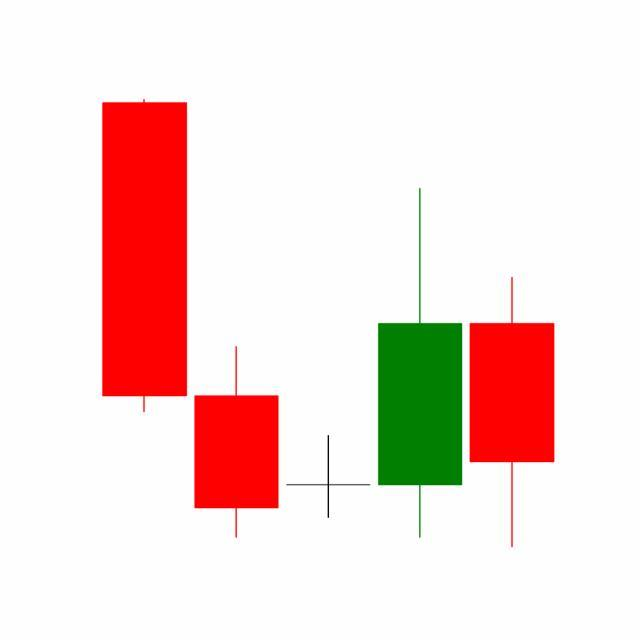Three Inside Up-Down: (190, 186, 467, 543)
